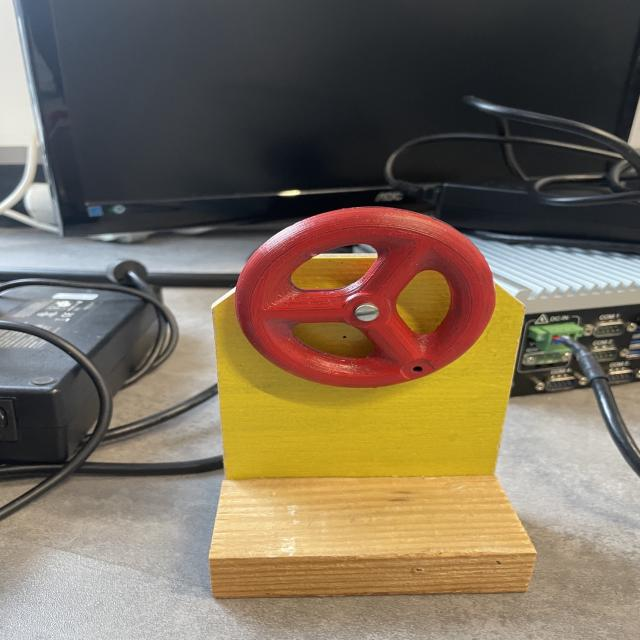Wheel Handle Valve Threaded: (232, 204, 497, 388)
